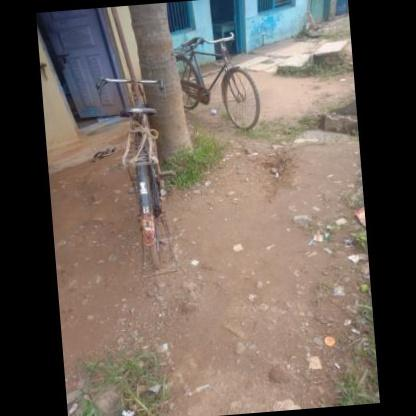Bicycle: (87, 63, 183, 287), (153, 12, 271, 142)
